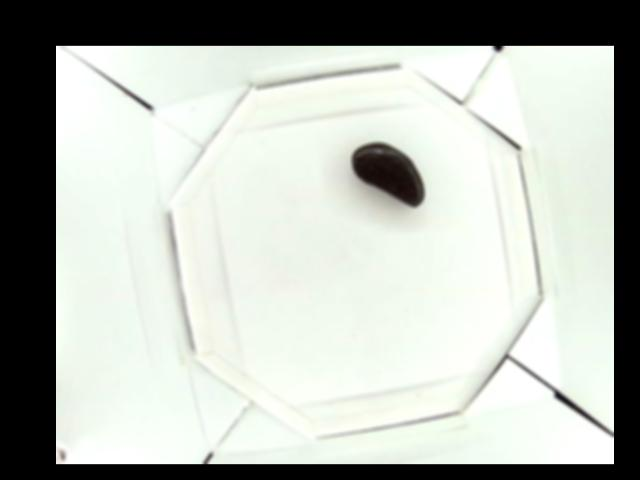Pebble: (351, 141, 426, 207)
